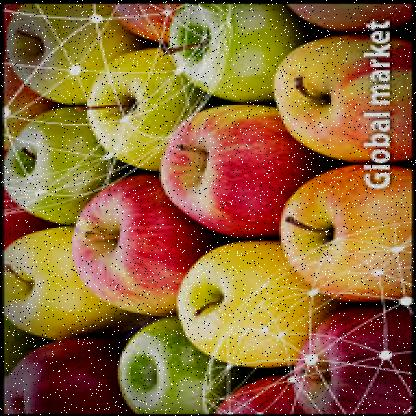apple: (67, 170, 209, 318), (159, 95, 301, 226), (279, 169, 412, 301), (272, 29, 405, 160), (172, 247, 312, 361), (6, 222, 116, 337), (85, 50, 194, 160), (284, 314, 414, 406), (172, 3, 288, 101), (4, 110, 113, 211), (120, 326, 222, 416), (4, 332, 113, 414)
